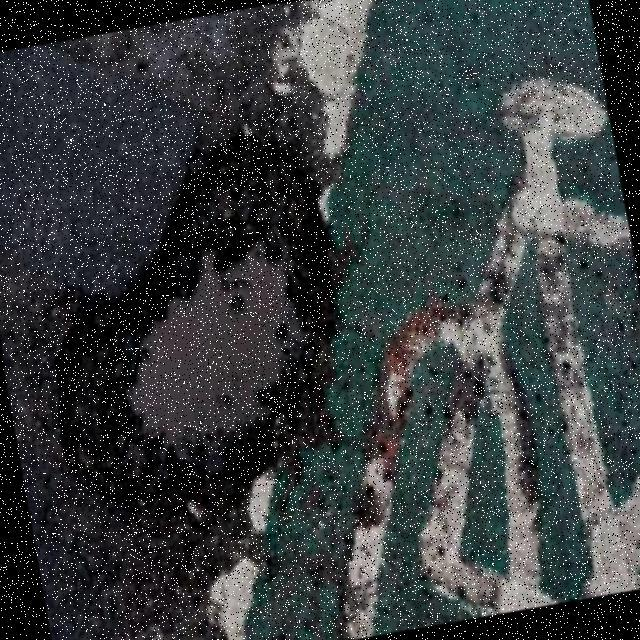Pothole: (56, 130, 334, 525)
